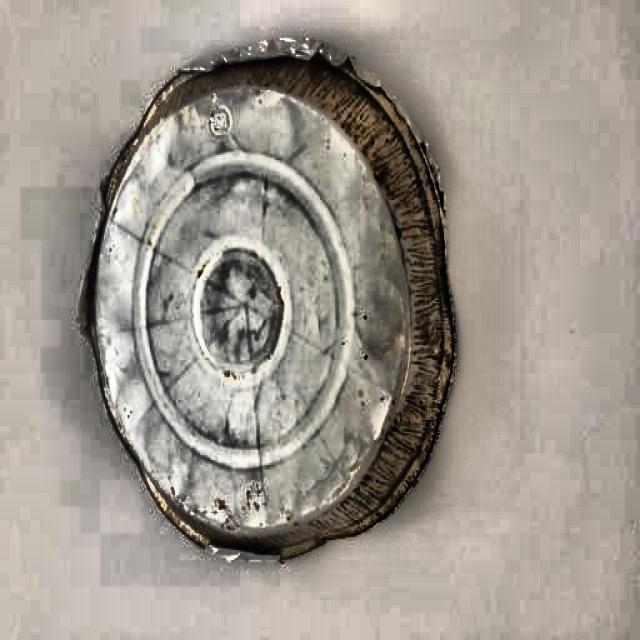metal: (75, 39, 461, 568)
